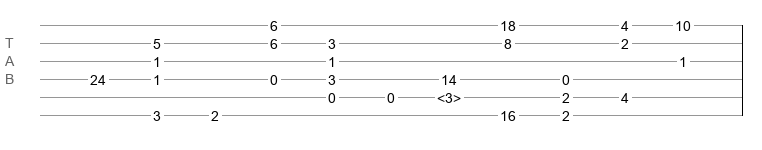0: (270, 72, 278, 82), (328, 90, 336, 100), (387, 90, 395, 100), (562, 72, 570, 82)
1: (153, 54, 161, 64), (153, 72, 161, 82), (328, 54, 336, 64), (679, 54, 687, 64)
10: (675, 18, 691, 28)
14: (441, 72, 457, 82)
16: (500, 108, 516, 118)
18: (500, 18, 516, 28)
2: (211, 108, 219, 118), (562, 108, 570, 118), (562, 90, 570, 100), (621, 36, 629, 46)
24: (90, 72, 106, 82)
3: (153, 108, 161, 118), (328, 36, 336, 46), (328, 72, 336, 82)
4: (621, 18, 629, 28), (621, 90, 629, 100)
5: (153, 36, 161, 46)
6: (270, 36, 278, 46), (270, 18, 278, 28)
8: (504, 36, 512, 46)
harmonic: (437, 90, 461, 100)
